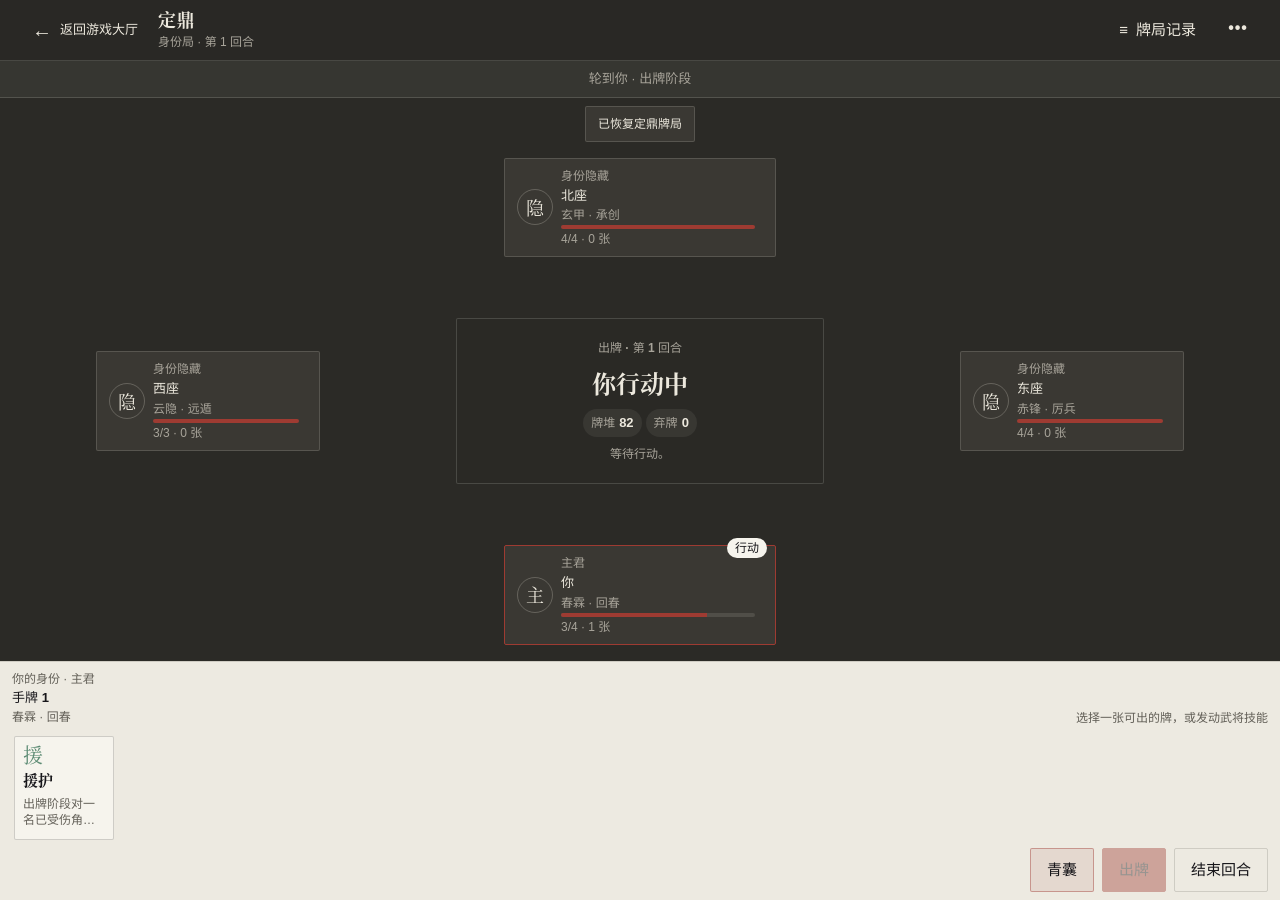
DingDingGame card target selection › combines the current-turn and selected-target badges when they share a seat
This screenshot has width=1280, height=900.
Click the button with aria-label "援护，可打出" at (64, 788), box [14,736,114,840]
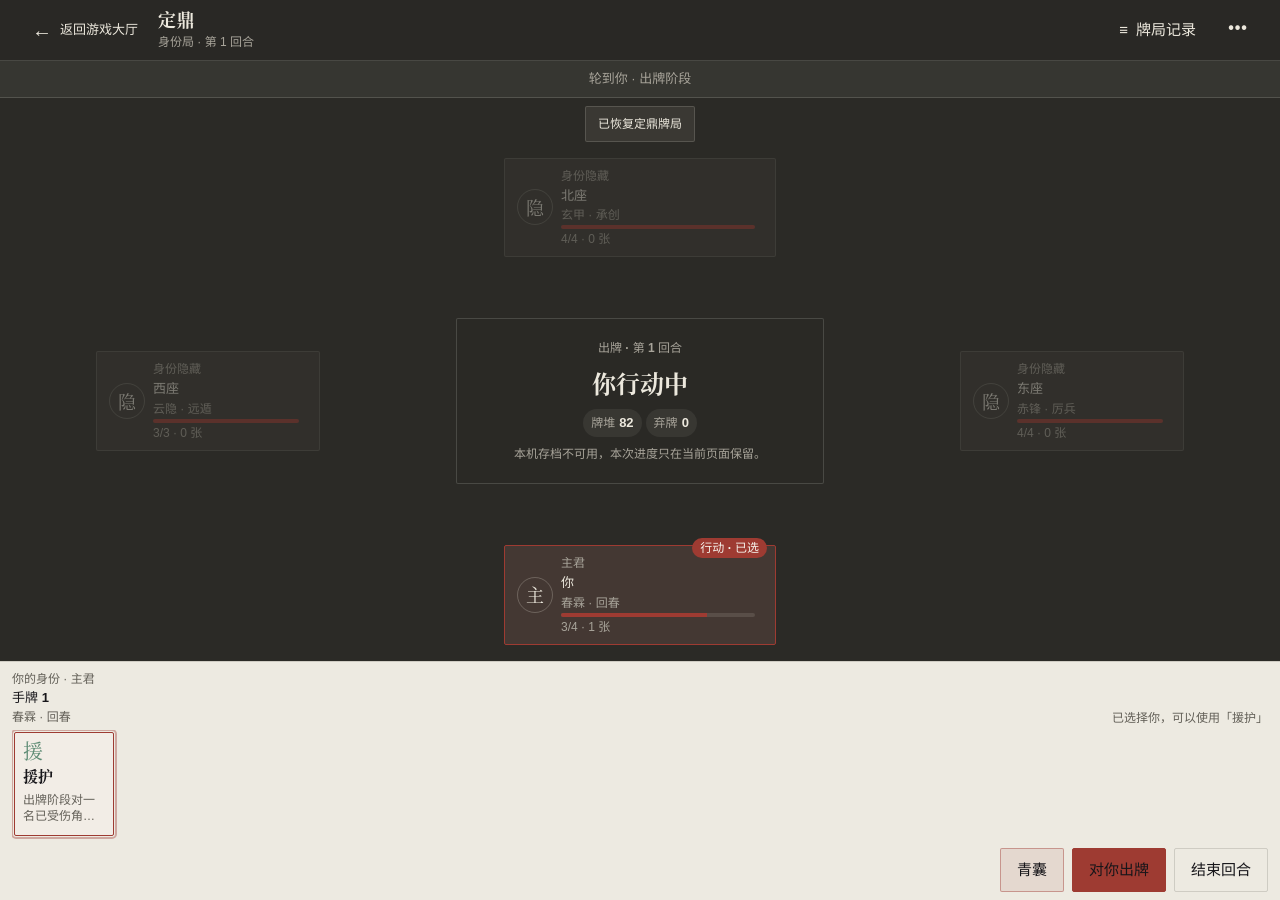
Now the text "行动 · 已选" is shown, box [692,538,767,558]
